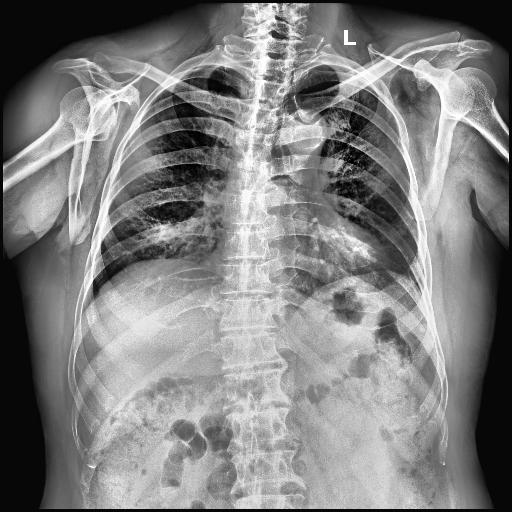0- Aortic enlargement: (274, 108, 328, 166), (282, 108, 328, 168), (285, 106, 330, 152)
3- Cardiomegaly: (204, 224, 386, 284), (208, 226, 390, 278), (204, 233, 398, 271)
